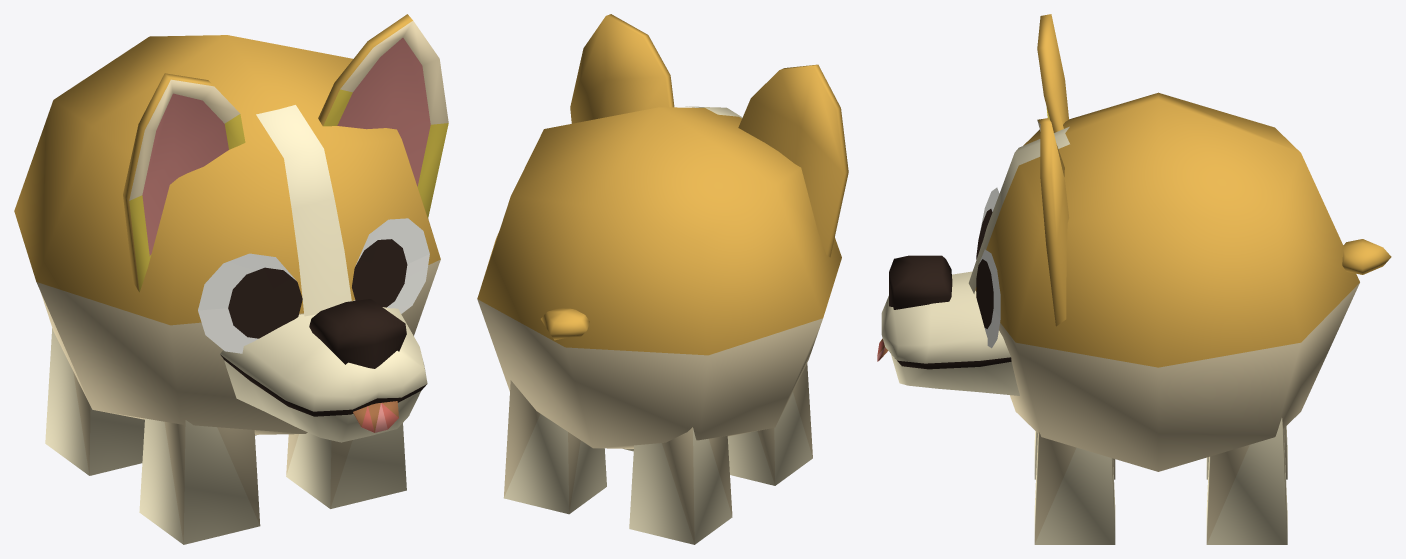
The model's file is itch_gobkit_animals_corgi.glb.
3 renders of one model, left to right at view 1: azimuth 30°, elevation 25°; view 2: azimuth 150°, elevation 25°; view 3: azimuth 270°, elevation 25°, orthographic. The views are drawn at different scales.
Visible parts, largest first — view 1: Corgi; view 2: Corgi; view 3: Corgi.
Boxes of the visible parts, x1,y1,x2,y2 form: Corgi: (14,14,448,544); Corgi: (477,14,848,544); Corgi: (877,14,1391,544).
Bounding box in the file's own units: 0.7527 × 0.8787 × 0.9591.
